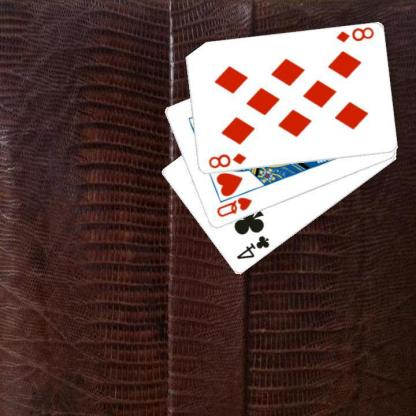4C: (234, 233, 271, 261)
8D: (333, 25, 375, 44), (206, 151, 247, 170)
QH: (214, 195, 253, 219)
